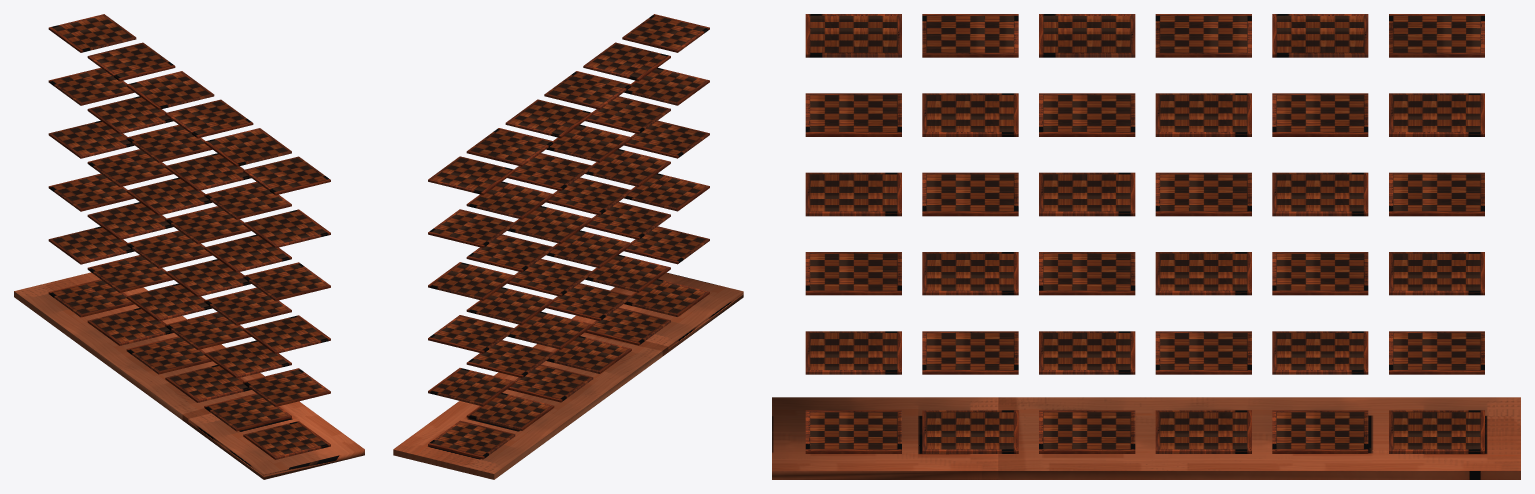
File: 4D-Chess-6square.fbx
The picture shows the model from 3 angles, left to right: view 1: azimuth 30°, elevation 25°; view 2: azimuth 150°, elevation 25°; view 3: azimuth 270°, elevation 25°; orthographic projection. The views are drawn at different scales.
Parts seen in each view (by area): view 1: ChessBoard_LP.001; view 2: ChessBoard_LP.001; view 3: ChessBoard_LP.001.
Boxes of the visible parts, left/top/right/bottom form: ChessBoard_LP.001: left=14, top=14, right=364, bottom=479; ChessBoard_LP.001: left=393, top=14, right=743, bottom=479; ChessBoard_LP.001: left=772, top=14, right=1520, bottom=479.
Size of the model in its own units: 300 by 773 by 1284.
